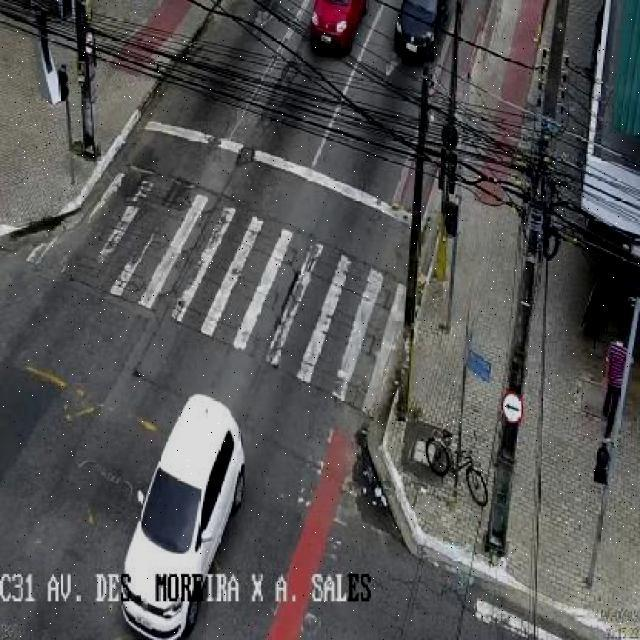Car: (119, 392, 247, 640), (302, 0, 370, 55), (393, 0, 451, 63)
Cycle: (426, 429, 492, 507)
